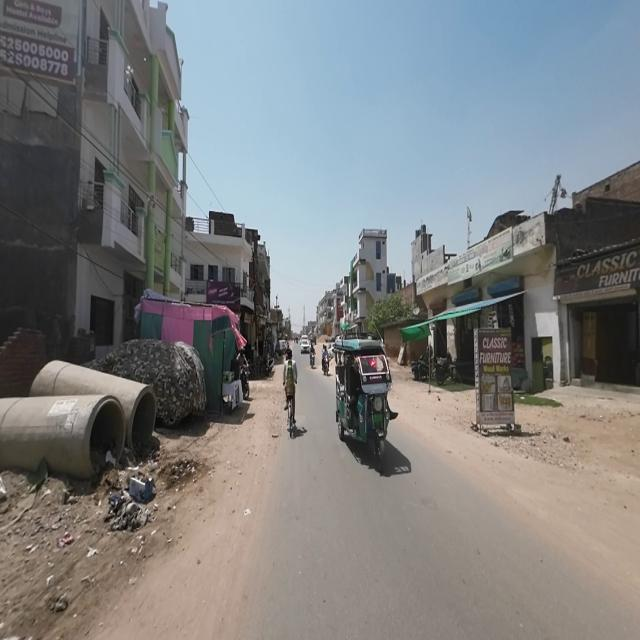Garbage: (101, 458, 160, 531)
